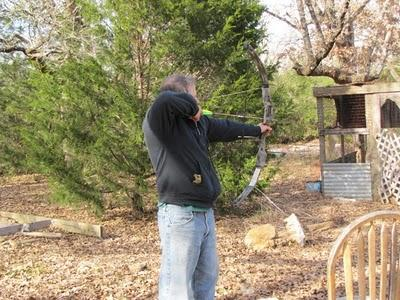person: (141, 71, 273, 299)
